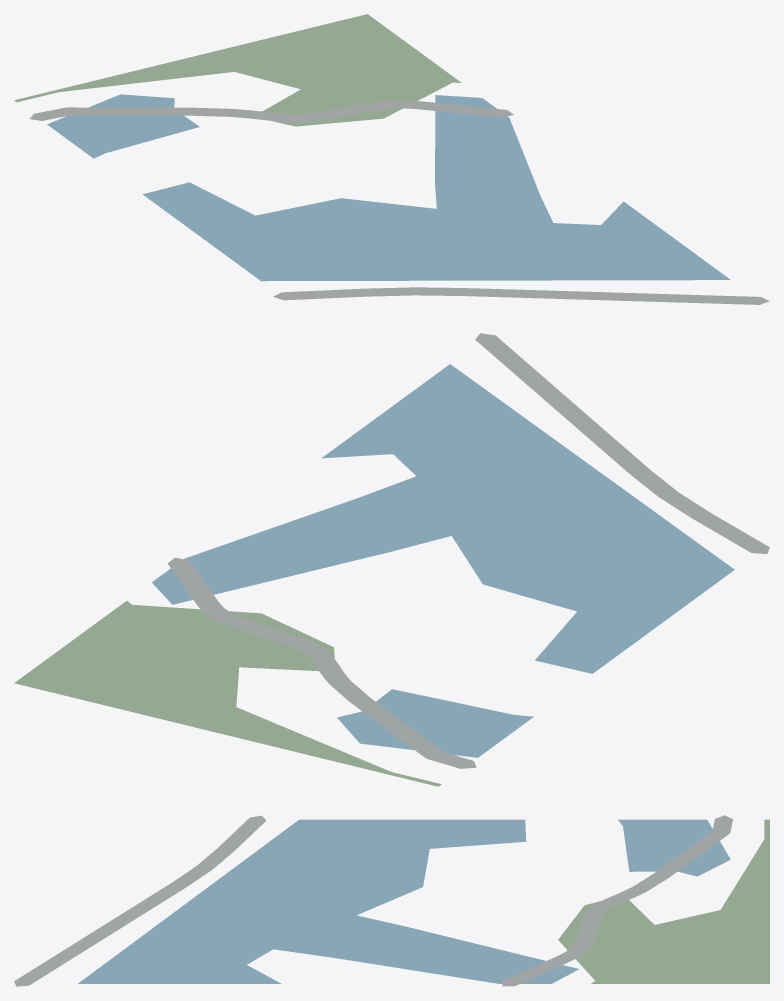
Rendered from -3_-1-known-coarse.glb.
The picture shows the model from 3 angles, top to bottom: view 1: azimuth 30°, elevation 25°; view 2: azimuth 150°, elevation 25°; view 3: azimuth 270°, elevation 25°; orthographic projection. The views are drawn at different scales.
Size of the model in its own units: 66.89 by 0.1 by 125.
